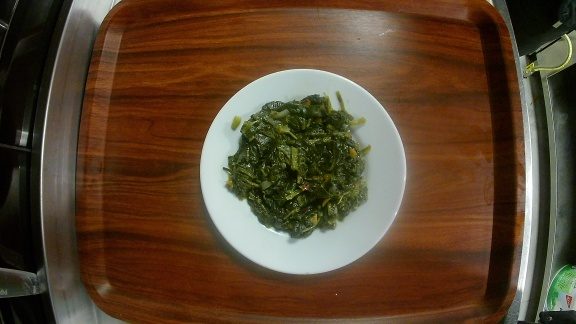ispanak: (196, 67, 409, 278)
